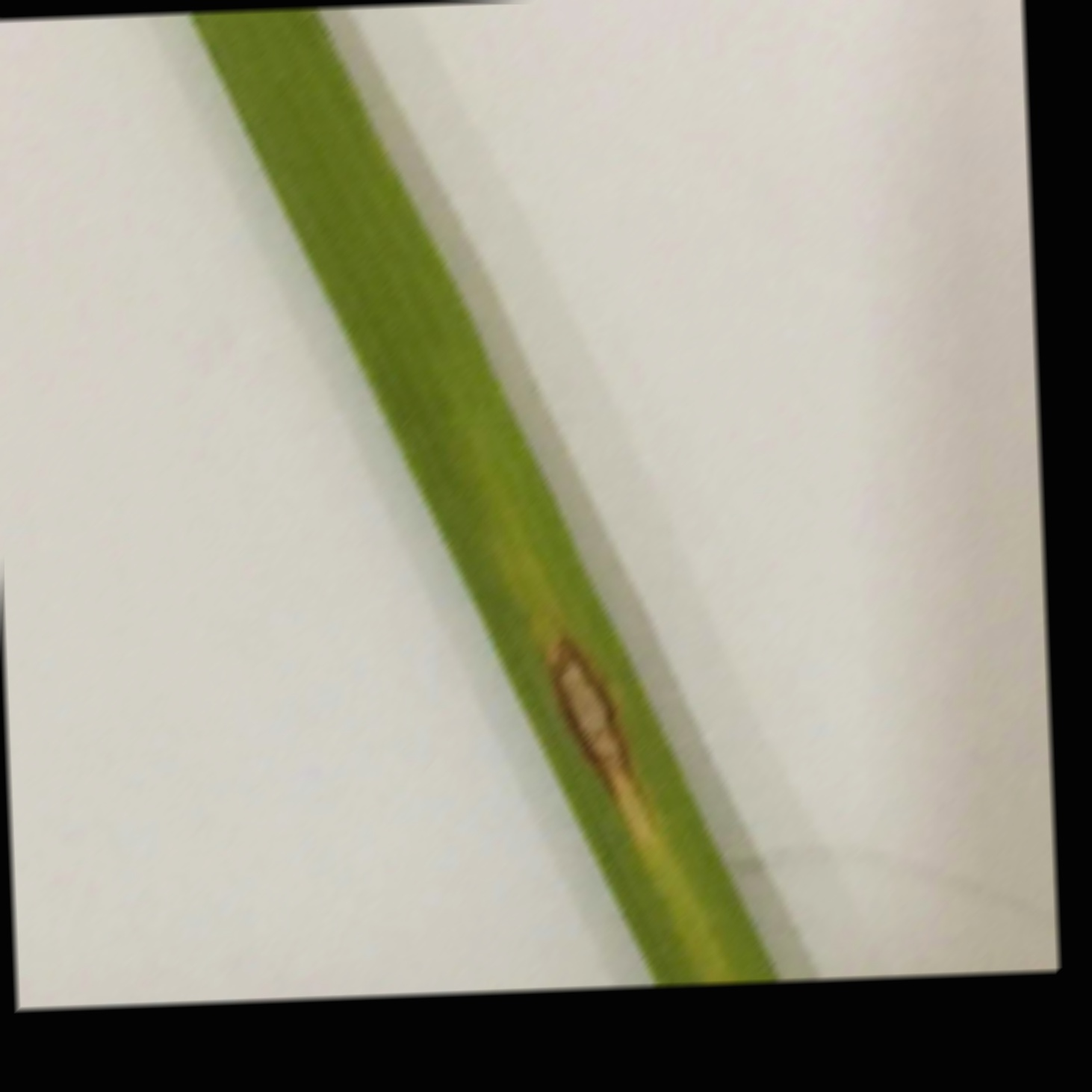Brown_Spot: (535, 621, 650, 806)
